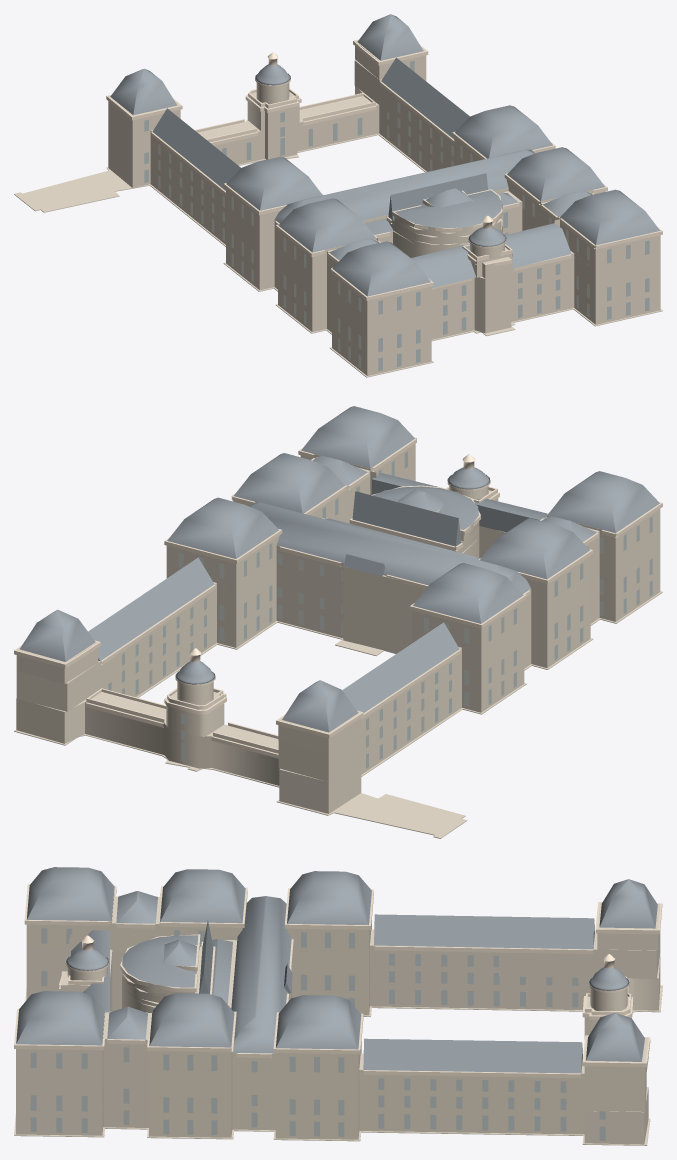
3 renders of one model, top to bottom at view 1: azimuth 30°, elevation 25°; view 2: azimuth 150°, elevation 25°; view 3: azimuth 270°, elevation 25°, orthographic. The views are drawn at different scales.
Visible parts, largest first — view 1: stone, roof, trim, window; view 2: stone, roof, trim, window; view 3: stone, roof, trim, window.
Boxes of the visible parts, box(x1,y1,x2,y2) form: stone: box(14, 40, 662, 377); roof: box(110, 14, 660, 296); trim: box(106, 39, 662, 300); window: box(144, 60, 649, 371); stone: box(14, 439, 662, 838); roof: box(20, 406, 659, 732); trim: box(14, 437, 662, 758); window: box(108, 451, 652, 768); stone: box(14, 885, 662, 1145); roof: box(16, 867, 657, 1073); trim: box(14, 884, 662, 1078); window: box(30, 928, 605, 1141).
Bounding box in the file's own units: 119 × 31.4 × 153.
